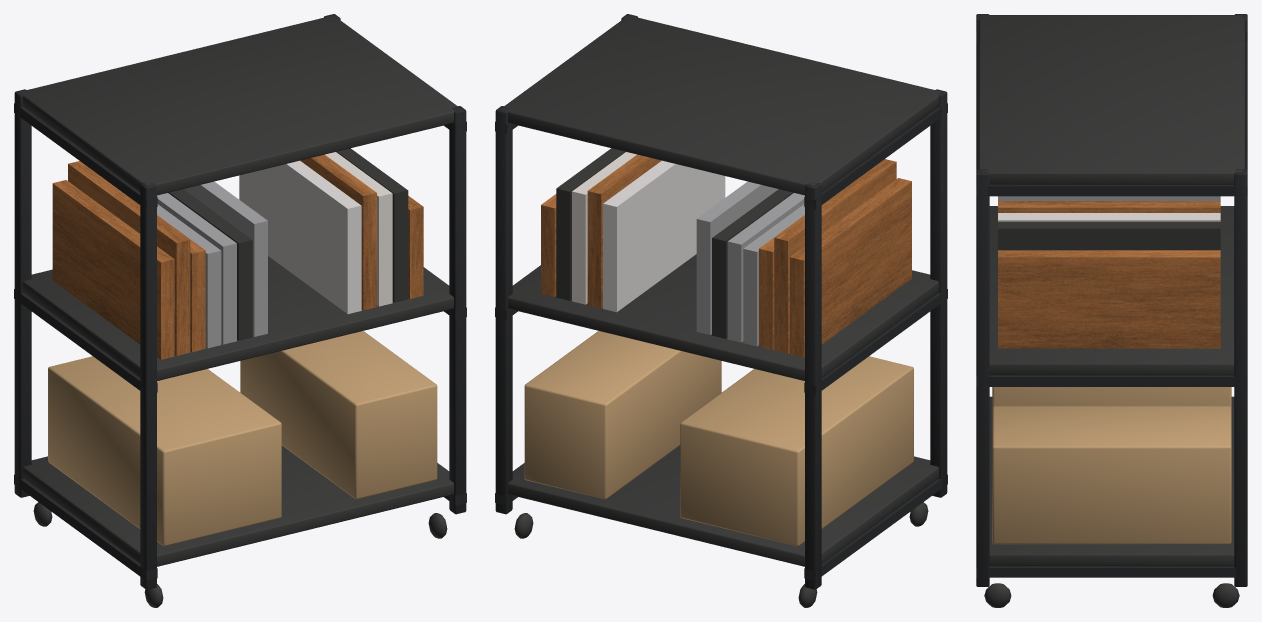
Rendered from utility.av-cart-700x500x900.glb.
The picture shows the model from 3 angles, left to right: view 1: azimuth 30°, elevation 25°; view 2: azimuth 150°, elevation 25°; view 3: azimuth 270°, elevation 25°; orthographic projection. The views are drawn at different scales.
Parts seen in each view (by area): view 1: utility.av-cart-700x500x900.001; view 2: utility.av-cart-700x500x900.001; view 3: utility.av-cart-700x500x900.001.
Boxes of the visible parts, x1,y1,x2,y2 form: utility.av-cart-700x500x900.001: (14, 14, 466, 607); utility.av-cart-700x500x900.001: (495, 14, 947, 607); utility.av-cart-700x500x900.001: (976, 14, 1247, 607).
Size of the model in its own units: 0.7 by 0.9 by 0.5.
Materials: 7 (1 with a texture image).
